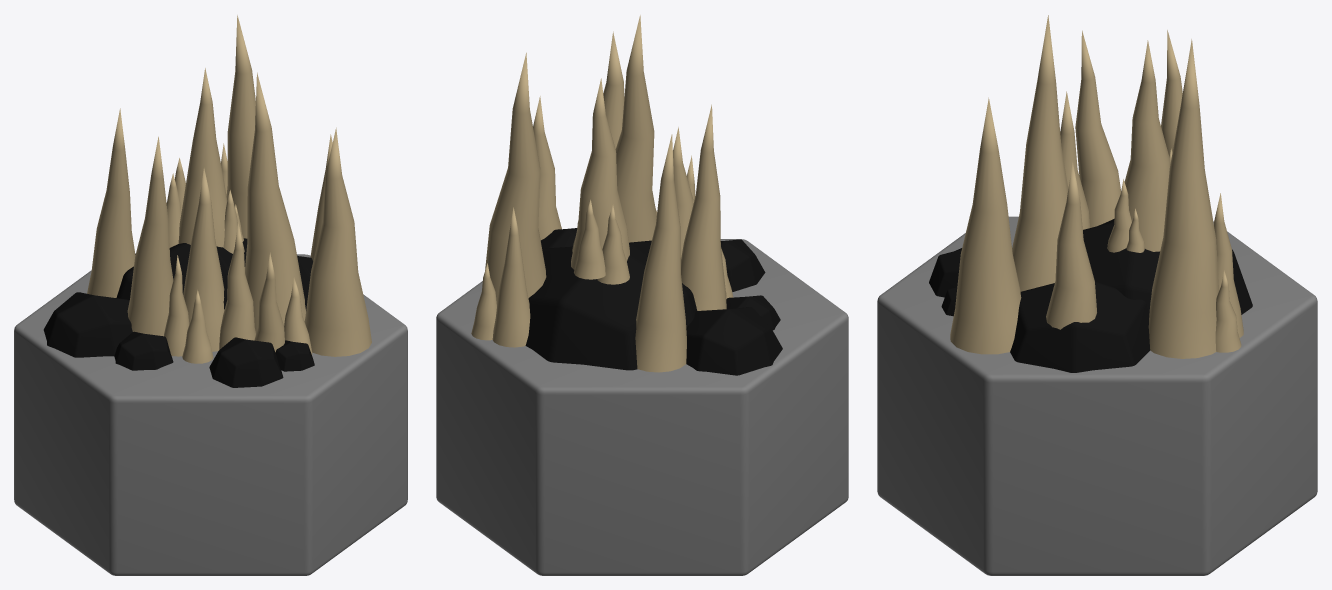
File: Environment_Stalactite.fbx
3 renders of one model, left to right at view 1: azimuth 30°, elevation 25°; view 2: azimuth 150°, elevation 25°; view 3: azimuth 270°, elevation 25°, orthographic. The views are drawn at different scales.
Visible parts, largest first — view 1: Cylinder018; view 2: Cylinder018; view 3: Cylinder018.
Part boxes in pixels (x1,y1,x2,y2): Cylinder018: (14, 15, 407, 575); Cylinder018: (436, 15, 848, 575); Cylinder018: (877, 15, 1317, 575).
Size of the model in its own units: 173 by 247 by 199.
